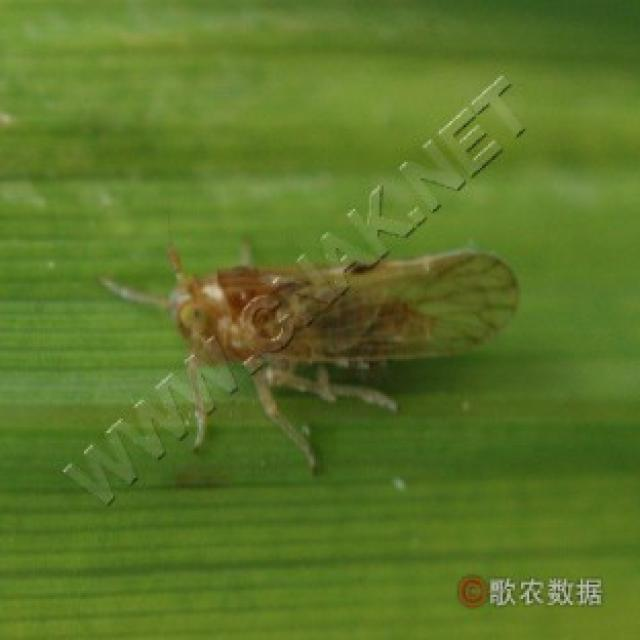brown plant hopper: (166, 248, 517, 470)
